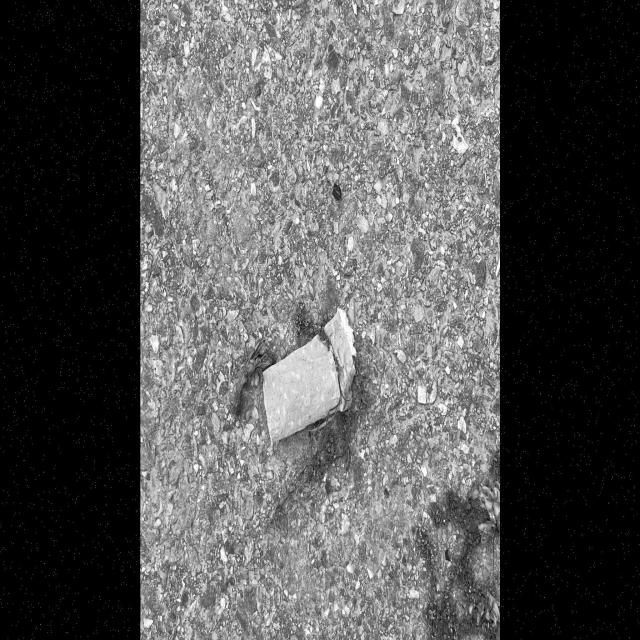other waste: (261, 304, 357, 445)
